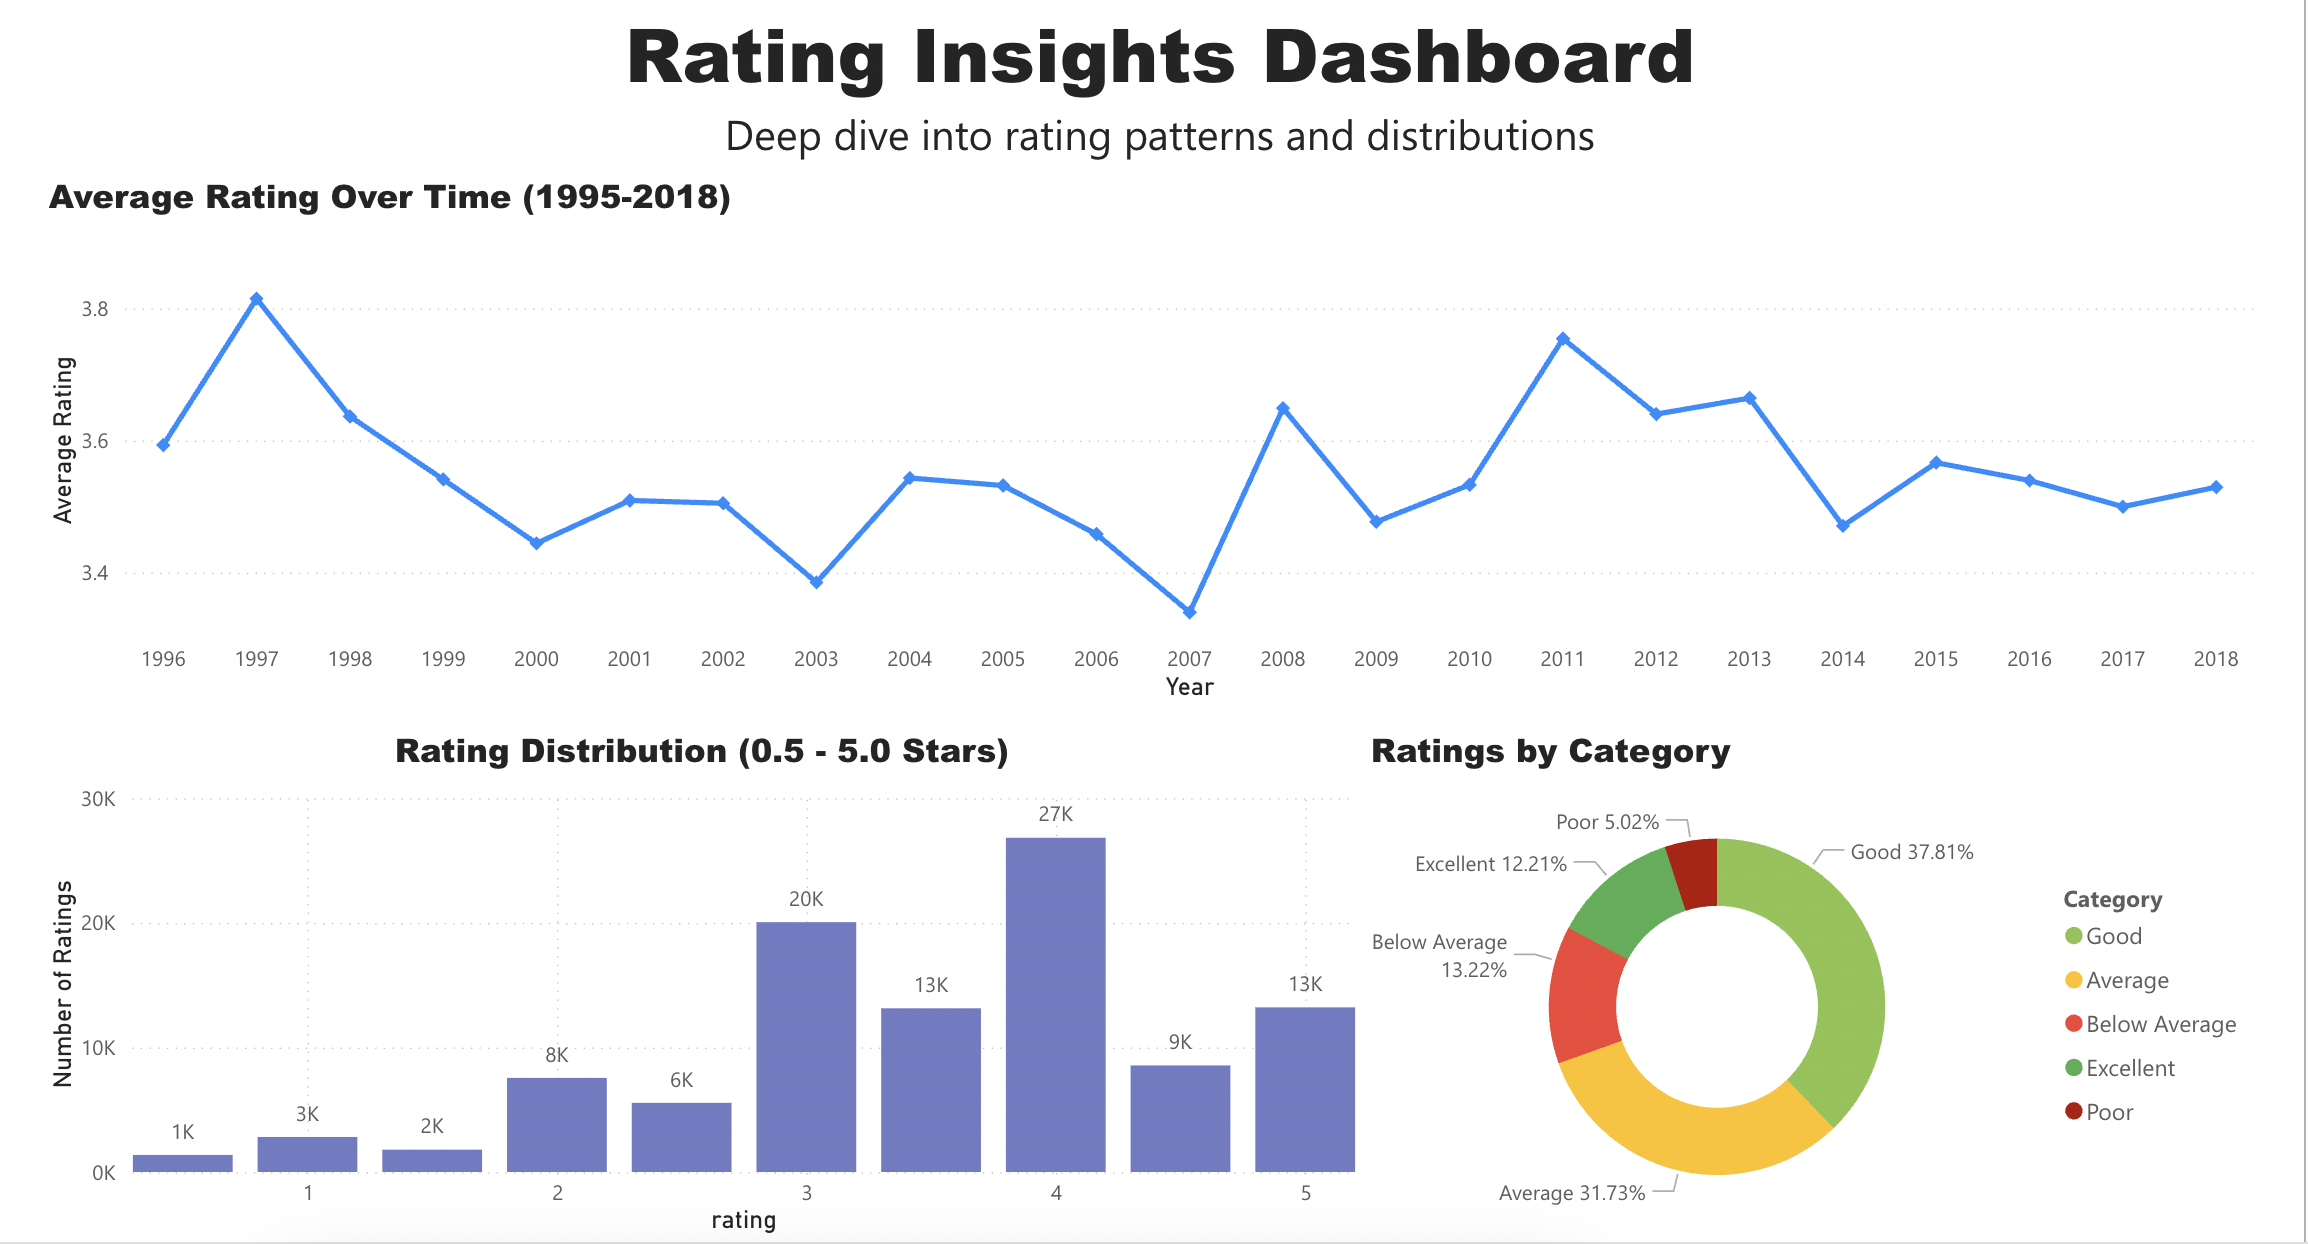

Layout of this report page (visuals, bound fields, positions):
{"tool":"powerbi","page":{"name":"Page 3","canvas":[1280,720],"ordinal":2},"visuals":[{"type":"textbox","box":[10.5,0,1269.5,103.5],"z":0},{"type":"lineChart","title":"Average Rating Over Time (1995-2018)","fields":{"Category":["rating_trends_time 1.month.Variation.Date Hierarchy.Year","rating_trends_time 1.month.Variation.Date Hierarchy.Month","rating_trends_time 1.month.Variation.Date Hierarchy.Day"],"Y":["Avg(rating_trends_time 1.avg_rating)"]},"box":[0,103.5,1280,309.2],"z":1},{"type":"clusteredColumnChart","title":"Rating Distribution (0.5 - 5.0 Stars)","fields":{"Category":["rating_distribution 1.rating"],"Y":["Sum(rating_distribution 1.count)"]},"box":[0,423.2,762.5,297.4],"z":2},{"type":"donutChart","title":"Ratings by Category","fields":{"Category":["movies_by_category 1.rating_category"],"Y":["Sum(movies_by_category 1.movie_count)"]},"box":[762,423,518,297],"z":3}]}

Visuals, with their boxes on the page's 1280x720 design canvas (x1, y1, x2, y2). These are canvas units, not pixel positions in the 2308x1244 screenshot, which may show the page scaled, cropped or inside an application window:
textbox: left=10, top=0, right=1280, bottom=104
"Average Rating Over Time (1995-2018)" lineChart: left=0, top=104, right=1280, bottom=413
"Rating Distribution (0.5 - 5.0 Stars)" clusteredColumnChart: left=0, top=423, right=762, bottom=721
"Ratings by Category" donutChart: left=762, top=423, right=1280, bottom=720
